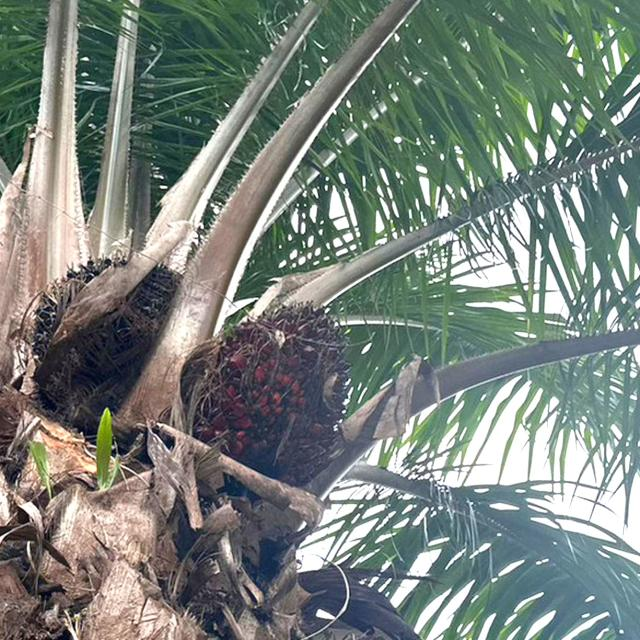ripe: (178, 293, 359, 476), (35, 251, 187, 421)
